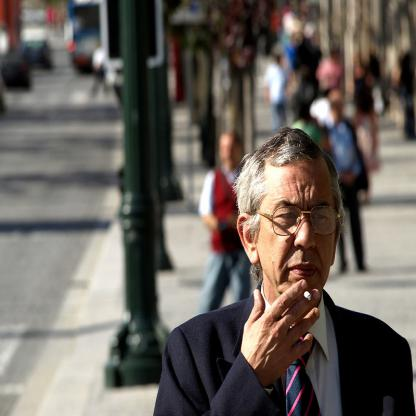smoking: (302, 291, 312, 300)
